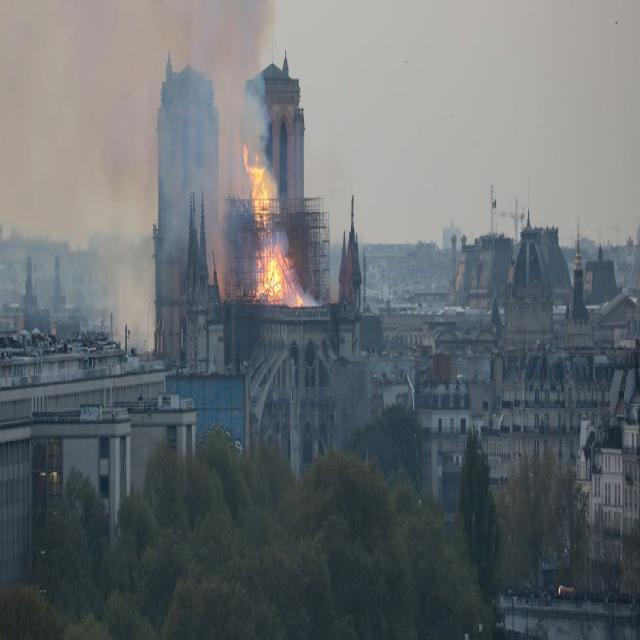Fire: (255, 244, 298, 300)
Smoke: (1, 0, 157, 223), (160, 2, 272, 264), (108, 229, 156, 350)
